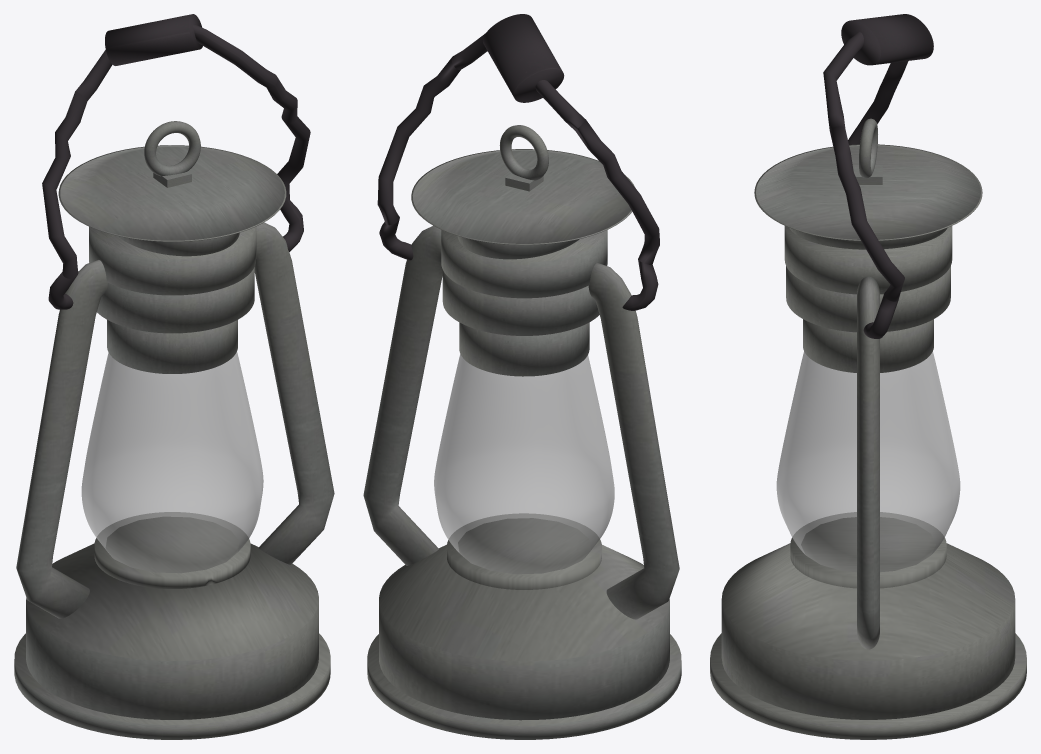
File: lamp.obj
3 renders of one model, left to right at view 1: azimuth 30°, elevation 25°; view 2: azimuth 150°, elevation 25°; view 3: azimuth 270°, elevation 25°, orthographic.
Parts seen in each view (by area): view 1: EstructuraLampara_Cylinder.006, Lampara_NurbsPath, Cordon_Cylinder.013; view 2: EstructuraLampara_Cylinder.006, Lampara_NurbsPath, Cordon_Cylinder.013; view 3: EstructuraLampara_Cylinder.006, Lampara_NurbsPath, Cordon_Cylinder.013.
Boxes of the visible parts, x1,y1,x2,y2 form: EstructuraLampara_Cylinder.006: (14, 121, 334, 739); Lampara_NurbsPath: (81, 352, 263, 573); Cordon_Cylinder.013: (42, 14, 310, 309); EstructuraLampara_Cylinder.006: (363, 125, 681, 739); Lampara_NurbsPath: (434, 354, 614, 574); Cordon_Cylinder.013: (377, 14, 659, 310); EstructuraLampara_Cylinder.006: (710, 118, 1026, 739); Lampara_NurbsPath: (776, 351, 960, 572); Cordon_Cylinder.013: (823, 14, 933, 338).
Bounding box in the file's own units: 1.35 × 2.67 × 1.17.
Materials: 3 (2 with a texture image).
